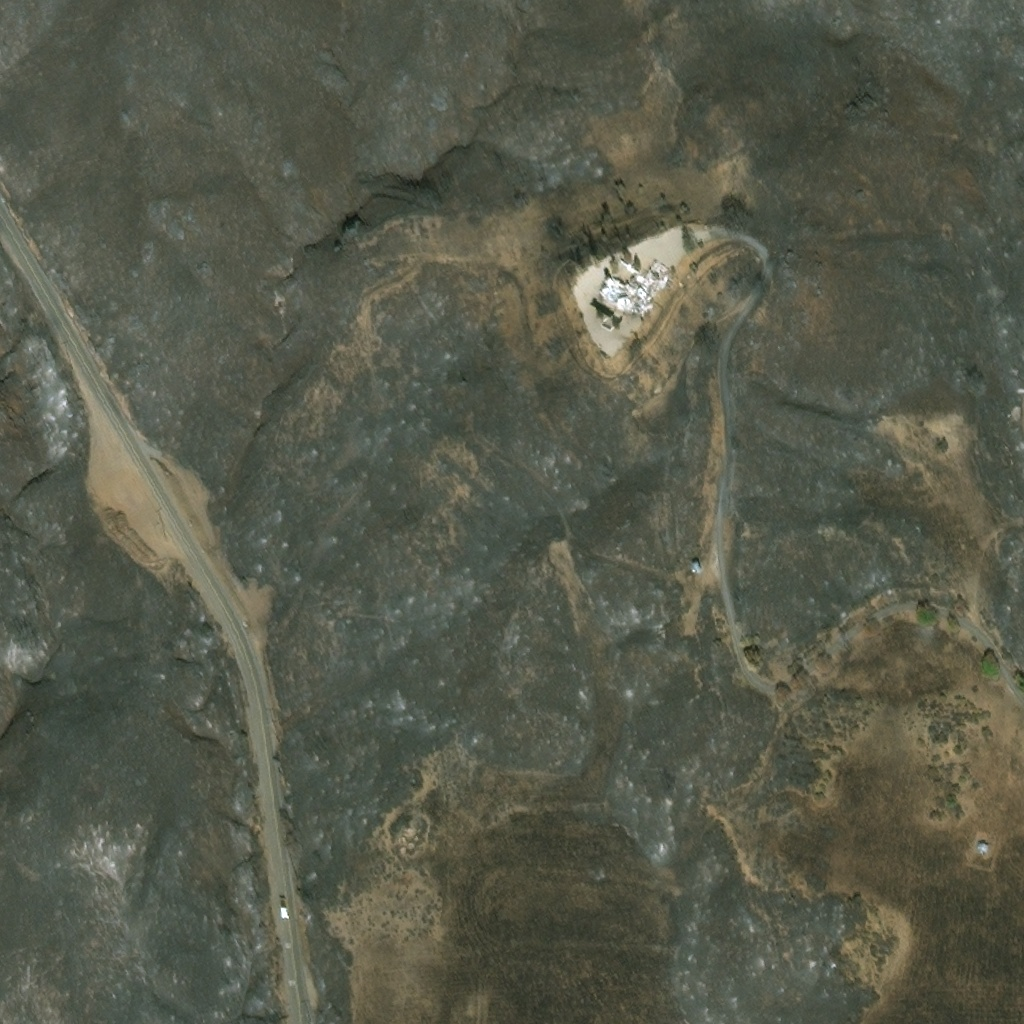3 destroyed: (599, 276, 653, 318), (633, 261, 670, 302), (627, 274, 643, 292), (976, 843, 989, 855), (692, 564, 700, 572)
